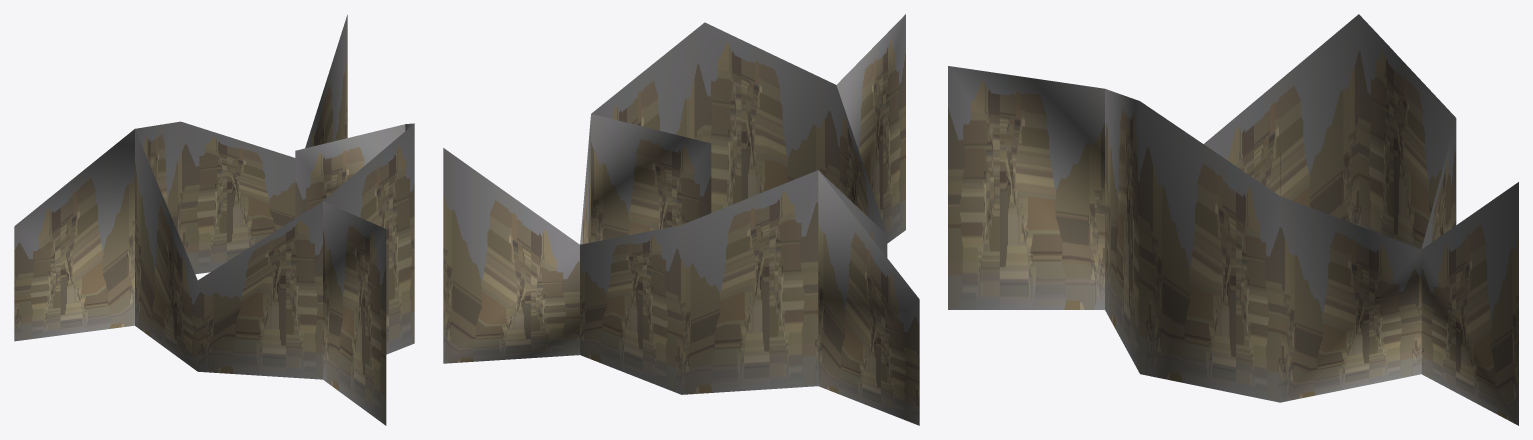
The model's file is mveg2c.glb.
3 renders of one model, left to right at view 1: azimuth 30°, elevation 25°; view 2: azimuth 150°, elevation 25°; view 3: azimuth 270°, elevation 25°, orthographic. The views are drawn at different scales.
Visible parts, largest first — view 1: _mveg2c; view 2: _mveg2c; view 3: _mveg2c.
Boxes of the visible parts, <box> form: _mveg2c: <box>14,14,414,425</box>; _mveg2c: <box>443,14,919,425</box>; _mveg2c: <box>948,14,1518,425</box>.
Bounding box in the file's own units: 4.71 × 2.58 × 4.89.
Materials: 1 (1 with a texture image).
